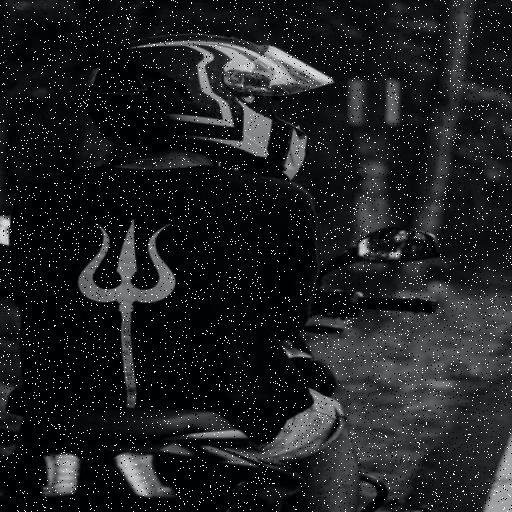Helmet: (106, 31, 329, 184)
